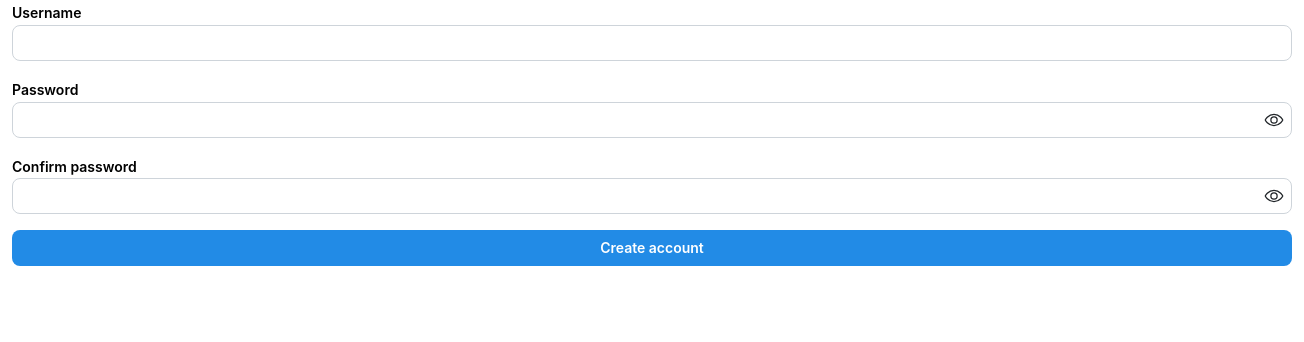
Scenario: RegisterForm › enforces the username length rules
Type "ab" into the field labelled "Username" at (652, 43), box x1=12 y1=25 x2=1292 y2=61
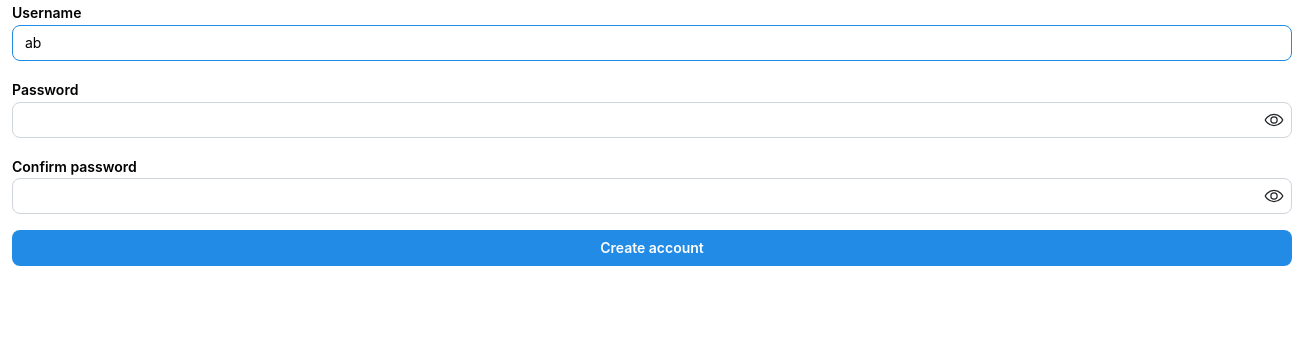
Click the button "Create account" at (652, 248), box x1=12 y1=230 x2=1292 y2=266
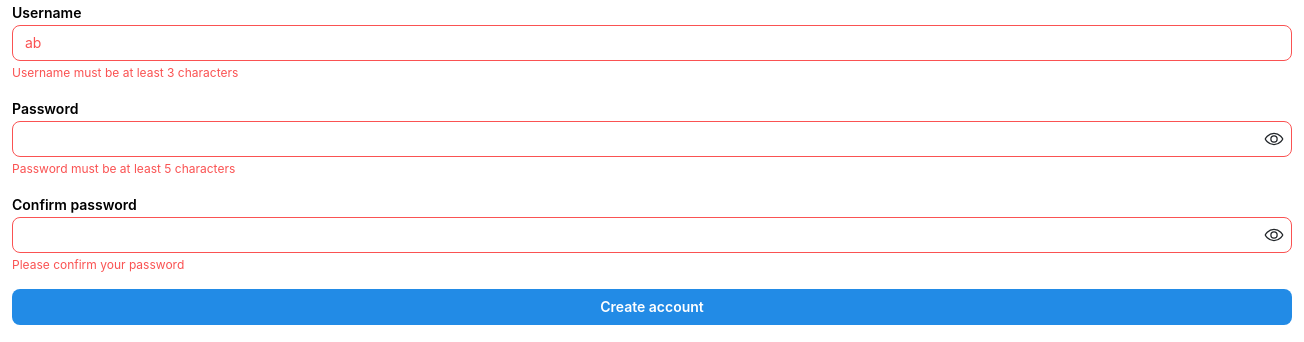
expect the text "Username must be at least 3 characters" is shown: met, box x1=12 y1=65 x2=238 y2=80
